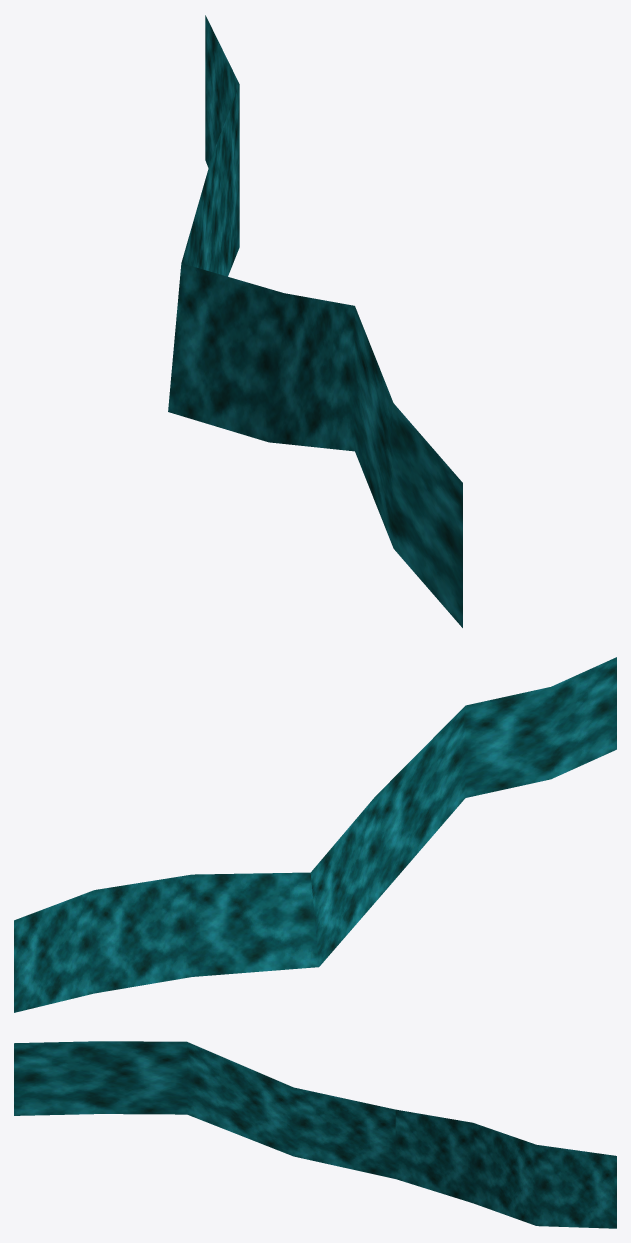
Rendered from MIRKWOOD_FOG_B01.fbx.
The picture shows the model from 3 angles, top to bottom: view 1: azimuth 30°, elevation 25°; view 2: azimuth 150°, elevation 25°; view 3: azimuth 270°, elevation 25°; orthographic projection. The views are drawn at different scales.
Visible parts, largest first — view 1: MIRKWOOD_FOG_B01; view 2: MIRKWOOD_FOG_B01; view 3: MIRKWOOD_FOG_B01.
Boxes of the visible parts, x1,y1,x2,y2 form: MIRKWOOD_FOG_B01: (168, 15, 462, 627); MIRKWOOD_FOG_B01: (14, 657, 616, 1012); MIRKWOOD_FOG_B01: (14, 1041, 616, 1228).
Bounding box in the file's own units: 236623 × 172946 × 715726.
Materials: 1 (1 with a texture image).
